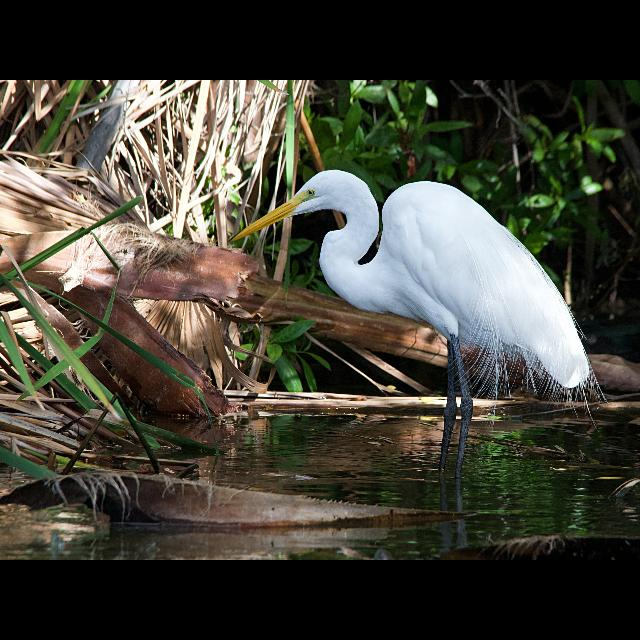egret: (228, 165, 600, 451)
